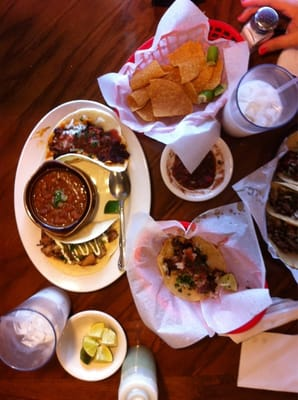pizza: (0, 287, 72, 372)
sushi: (24, 161, 100, 237), (221, 63, 298, 138)
